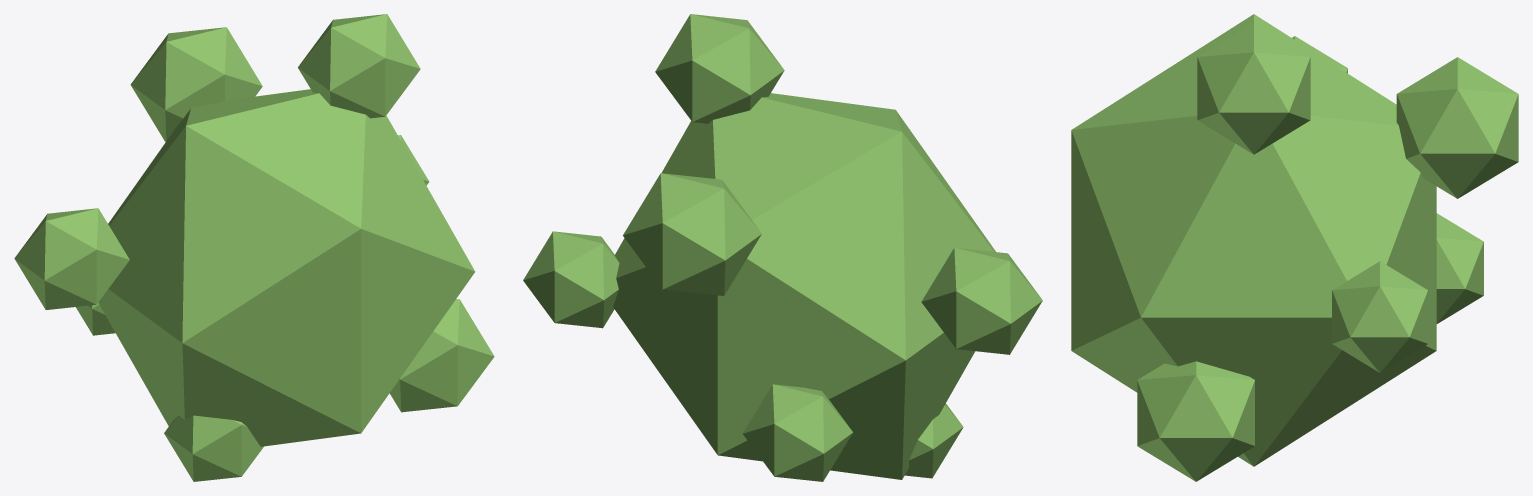
The model's file is bolita-verde.glb.
3 views of the same model, side by side, from view 1: azimuth 30°, elevation 25°; view 2: azimuth 150°, elevation 25°; view 3: azimuth 270°, elevation 25° (orthographic). The views are drawn at different scales.
Parts seen in each view (by area): view 1: bolita-gemelo; view 2: bolita-gemelo; view 3: bolita-gemelo.
Boxes of the visible parts, x1,y1,x2,y2 form: bolita-gemelo: [14, 14, 494, 481]; bolita-gemelo: [523, 14, 1042, 481]; bolita-gemelo: [1071, 14, 1518, 481].
Bounding box in the file's own units: 0.3709 × 0.3355 × 0.3125.
